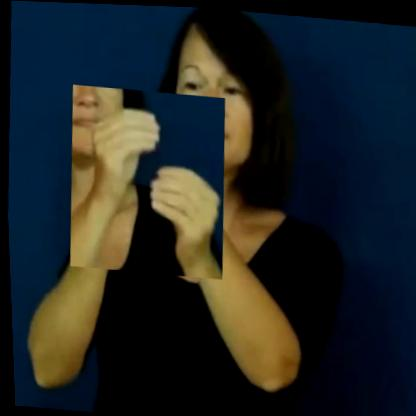Fix: (63, 83, 229, 278)
